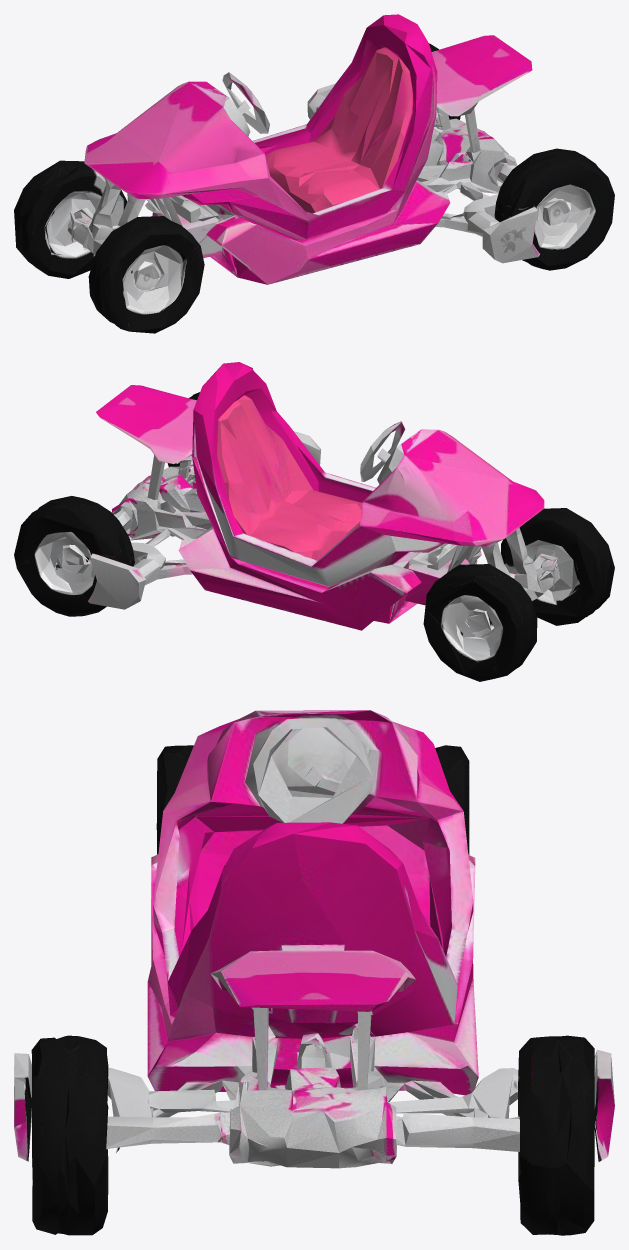
Rendered from kart-wif-gloss.glb.
The picture shows the model from 3 angles, top to bottom: view 1: azimuth 30°, elevation 25°; view 2: azimuth 150°, elevation 25°; view 3: azimuth 270°, elevation 25°; orthographic projection. The views are drawn at different scales.
Bounding box in the file's own units: 1.9 × 0.794 × 1.27.
1 material, 1 textured.
